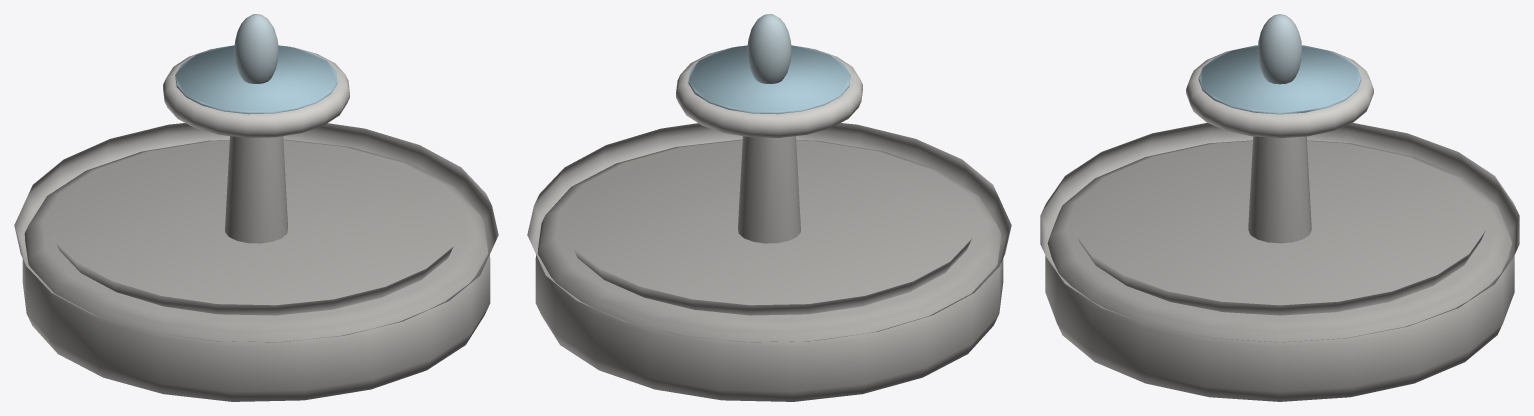
File: fountain.glb
3 renders of one model, left to right at view 1: azimuth 30°, elevation 25°; view 2: azimuth 150°, elevation 25°; view 3: azimuth 270°, elevation 25°, orthographic.
Visible parts, largest first — view 1: fountain; view 2: fountain; view 3: fountain.
Part boxes in pixels (x1=…): fountain: x1=14, y1=14, x2=498, y2=401; fountain: x1=527, y1=14, x2=1011, y2=401; fountain: x1=1040, y1=14, x2=1519, y2=401.
Bounding box in the file's own units: 1.96 × 1.32 × 1.94.
